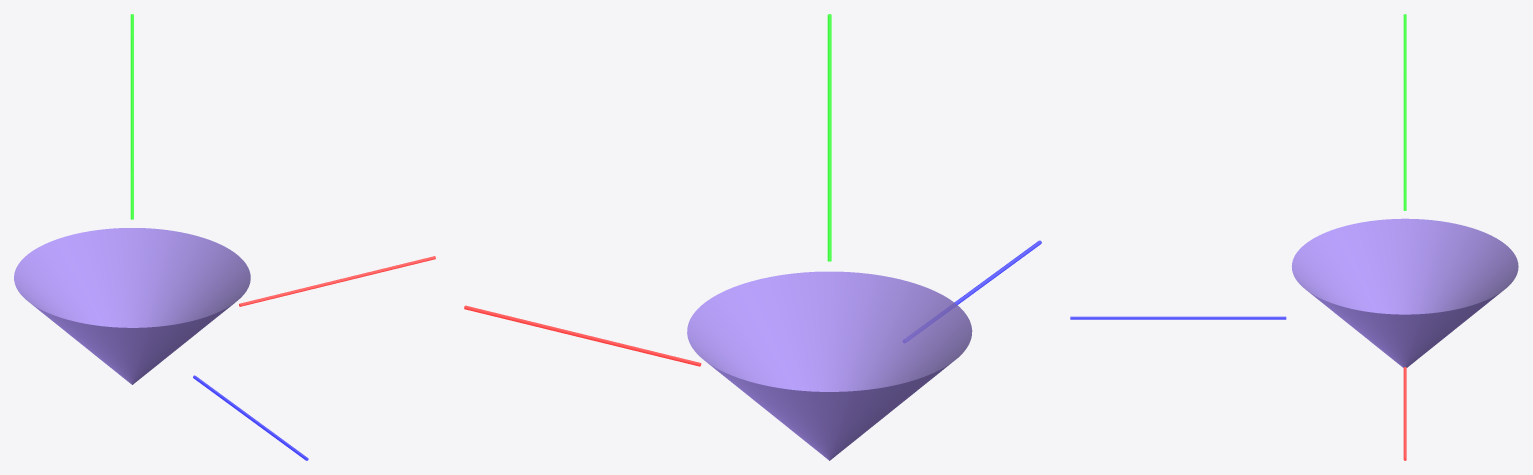
The model's file is solid-of-revolution-cone.glb.
3 views of the same model, side by side, from view 1: azimuth 30°, elevation 25°; view 2: azimuth 150°, elevation 25°; view 3: azimuth 270°, elevation 25° (orthographic). The views are drawn at different scales.
Bounding box in the file's own units: 1.98 × 1.73 × 1.98.
